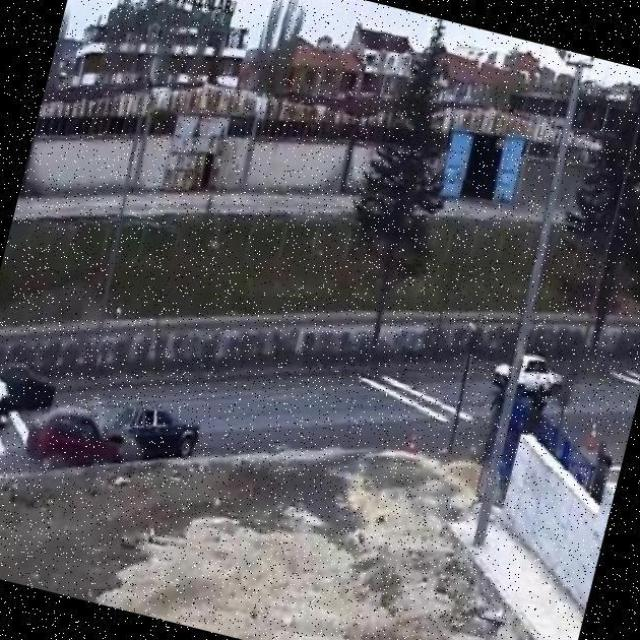accident: (18, 374, 206, 501)
